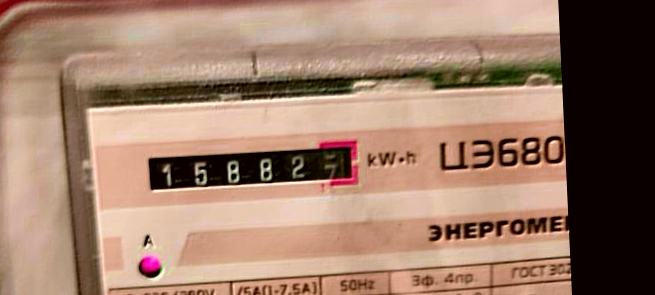1: (161, 162, 176, 188)
2: (290, 154, 306, 179)
5: (192, 160, 210, 186)
7: (324, 161, 339, 180)
8: (225, 159, 243, 186), (258, 157, 275, 182)
screen: (134, 132, 369, 206)
